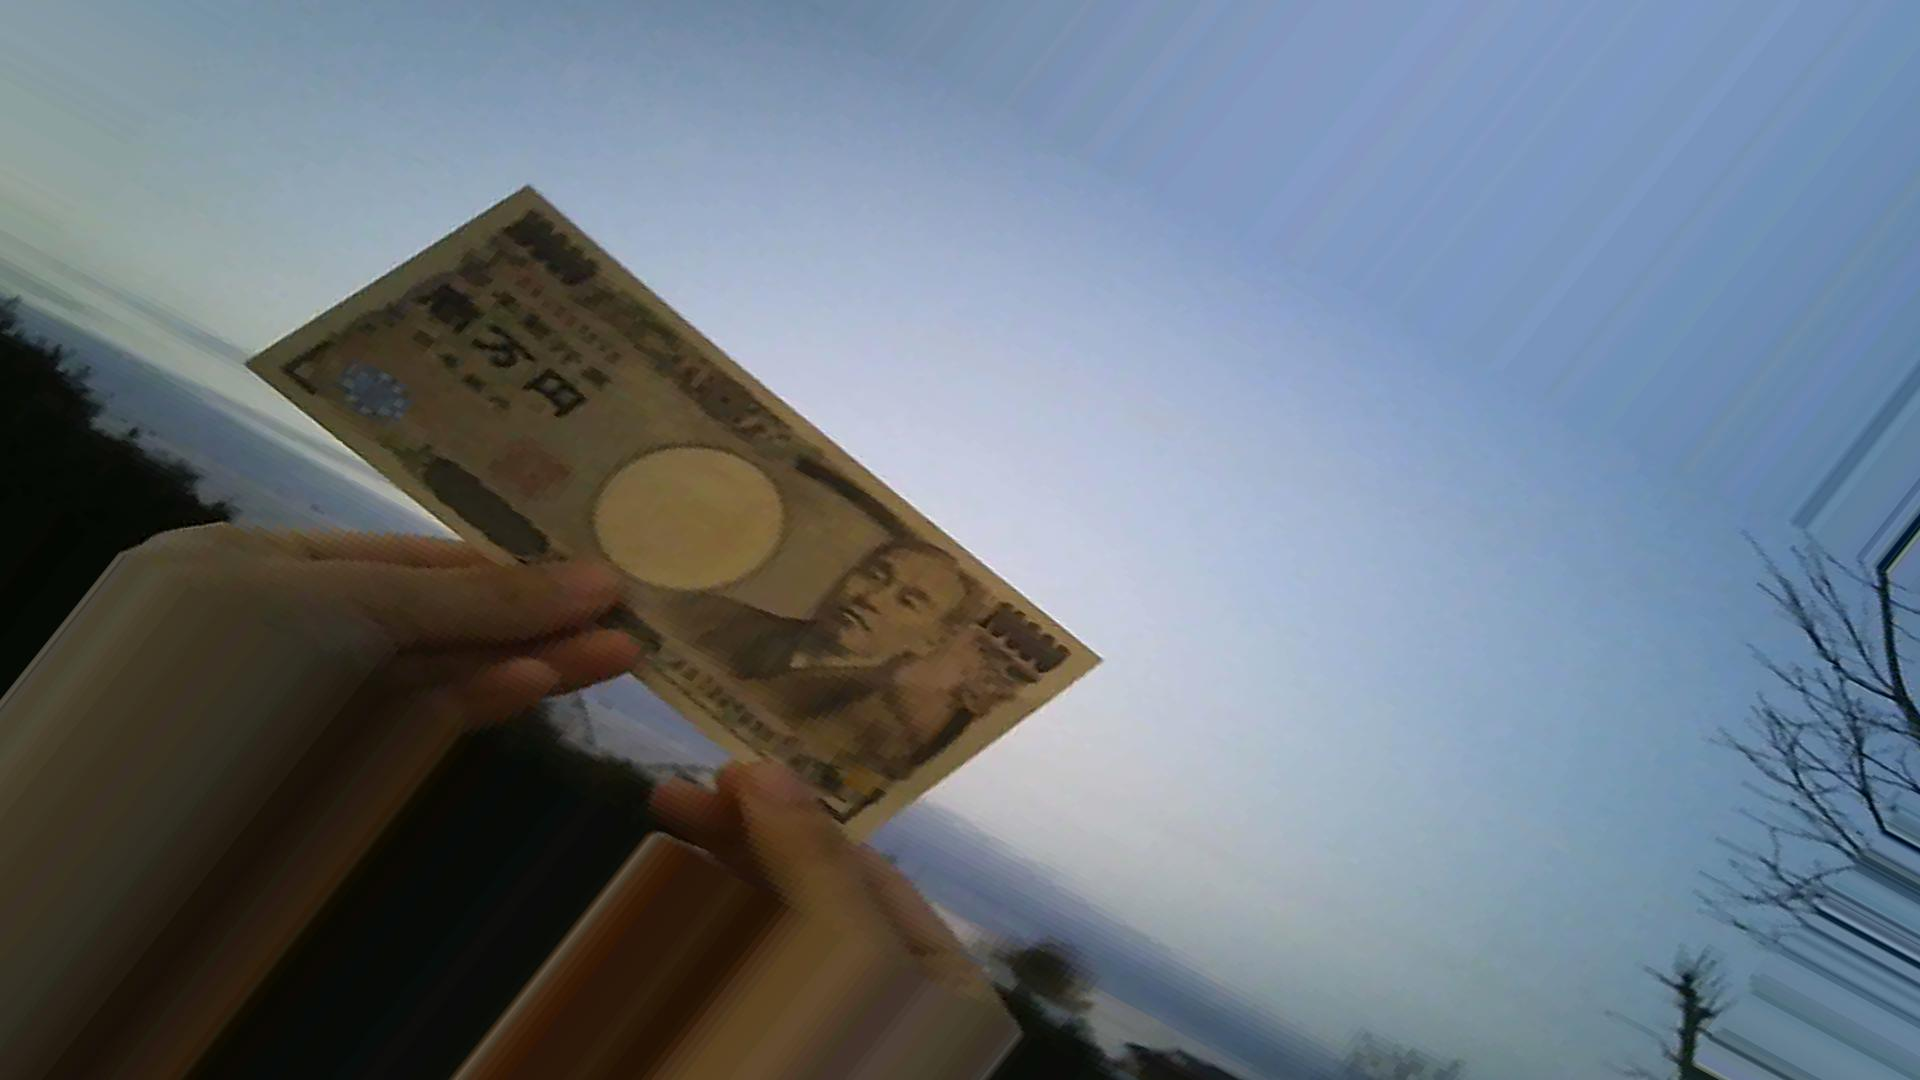10,000 Yen: (229, 185, 1114, 893)
